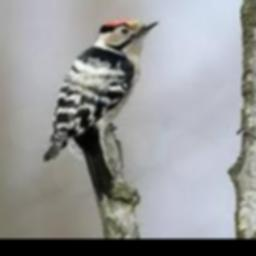Woodpecker: (43, 18, 159, 198)
